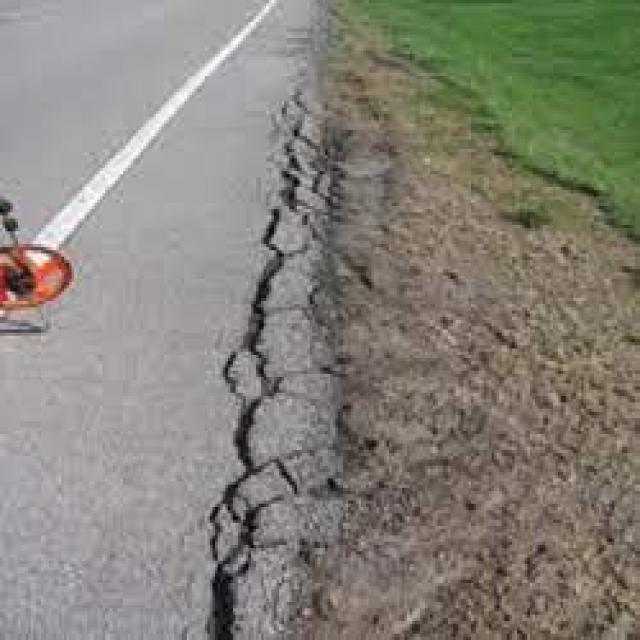Pothole: (172, 23, 571, 640)
